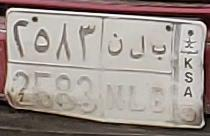2: (12, 19, 29, 103)
3: (77, 24, 98, 114)
5: (33, 27, 54, 108)
8: (54, 23, 74, 111)
B: (150, 43, 167, 113)
L: (129, 34, 147, 113)
N: (106, 32, 124, 112)
